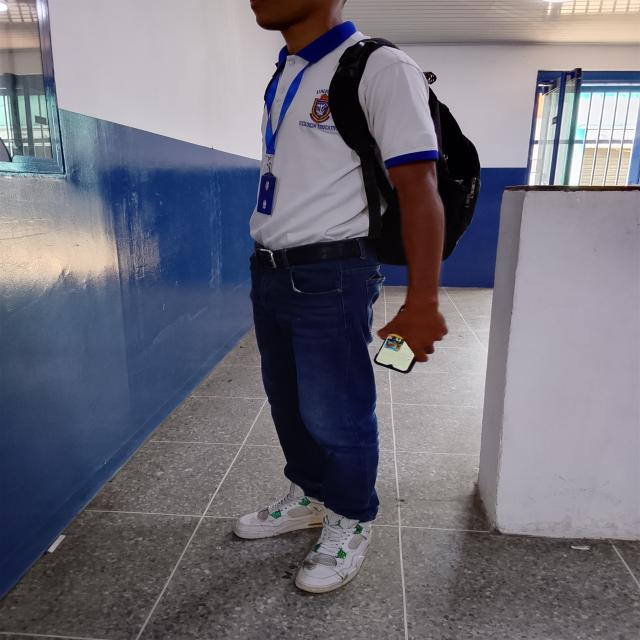carnet: (256, 175, 278, 215)
pantalon_oscuro: (249, 261, 387, 523)
uniforme_superior: (249, 21, 438, 250)
